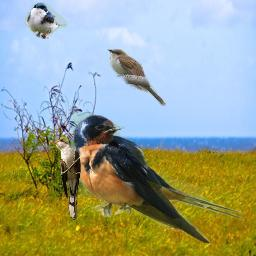Cuckoo: (107, 49, 166, 106), (51, 139, 81, 220)
Swallow: (71, 112, 244, 243), (25, 2, 67, 39)
